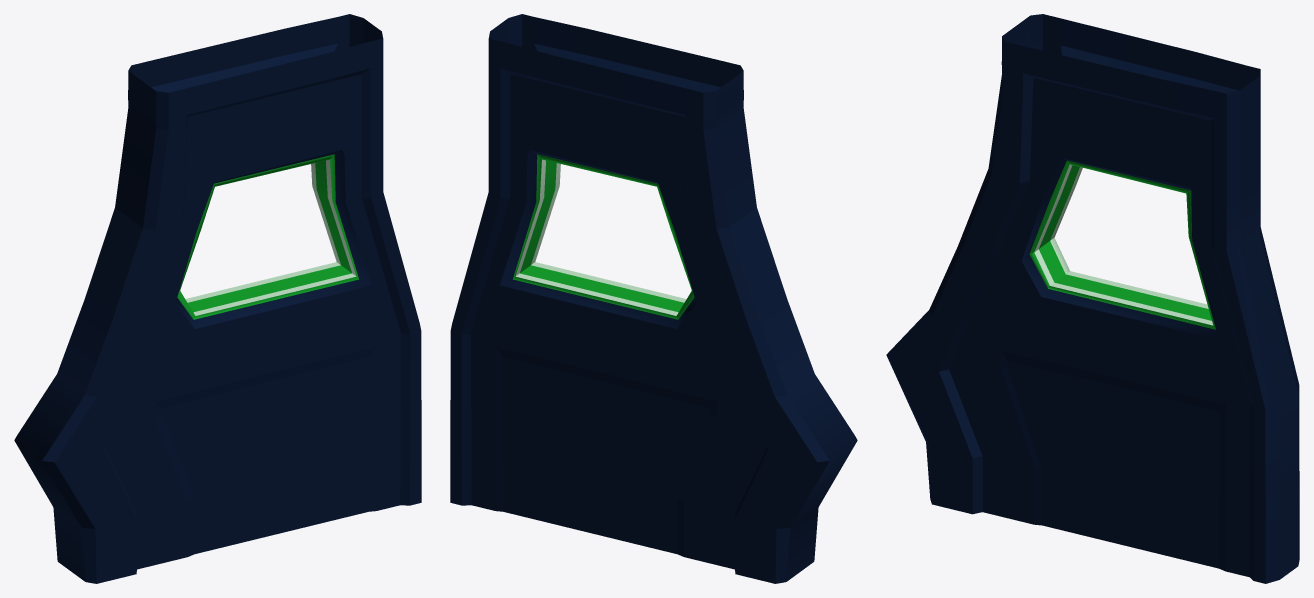
Rendered from Module_Ss_doorL_1A.FBX.
3 views of the same model, side by side, from view 1: azimuth 30°, elevation 25°; view 2: azimuth 150°, elevation 25°; view 3: azimuth 330°, elevation 25° (orthographic).
Visible parts, largest first — view 1: Module_Ss_doorL_1Aa; view 2: Module_Ss_doorL_1Aa; view 3: Module_Ss_doorL_1Aa.
Part boxes in pixels (x1,y1,x2,y2): Module_Ss_doorL_1Aa: (14, 14, 421, 583); Module_Ss_doorL_1Aa: (450, 14, 857, 583); Module_Ss_doorL_1Aa: (886, 14, 1299, 583).
Bounding box in the file's own units: 63.64 × 75.2 × 10.74.
